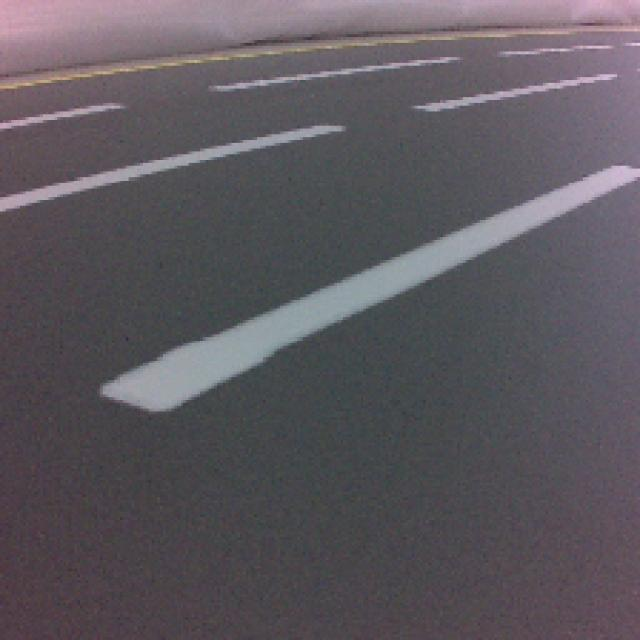Guard rail: (101, 160, 640, 415)
